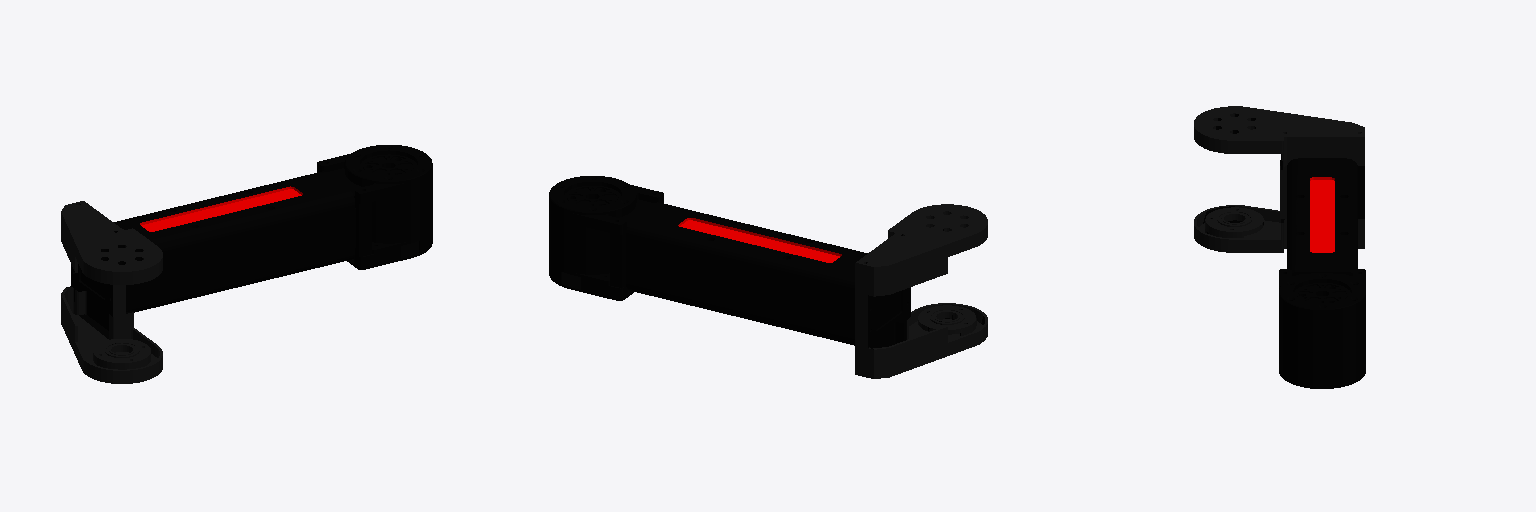
3 views of the same model, side by side, from view 1: azimuth 30°, elevation 25°; view 2: azimuth 150°, elevation 25°; view 3: azimuth 270°, elevation 25° (orthographic).
Parts seen in each view (by area): view 1: link3; view 2: link3; view 3: link3.
Part boxes in pixels (x1,y1,x2,y2): link3: (61, 145, 432, 383); link3: (549, 176, 987, 378); link3: (1194, 106, 1365, 388).
Size of the model in its own units: 0.303 by 0.0845 by 0.118.